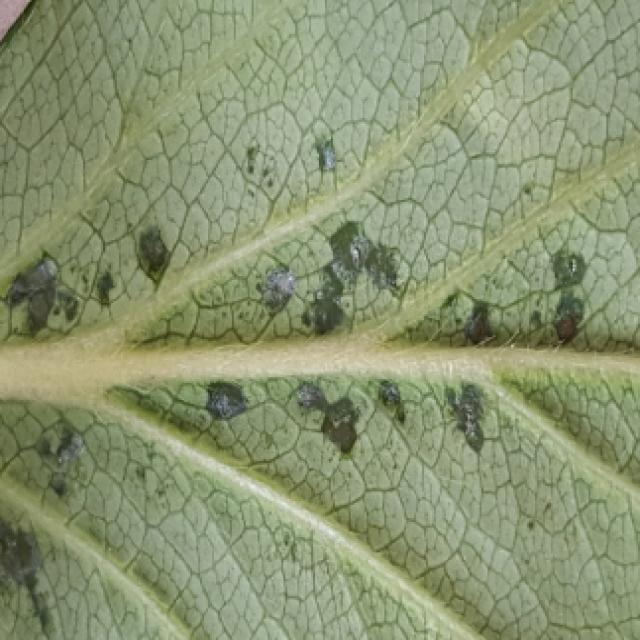Angular Leafspot: (0, 127, 640, 640)
